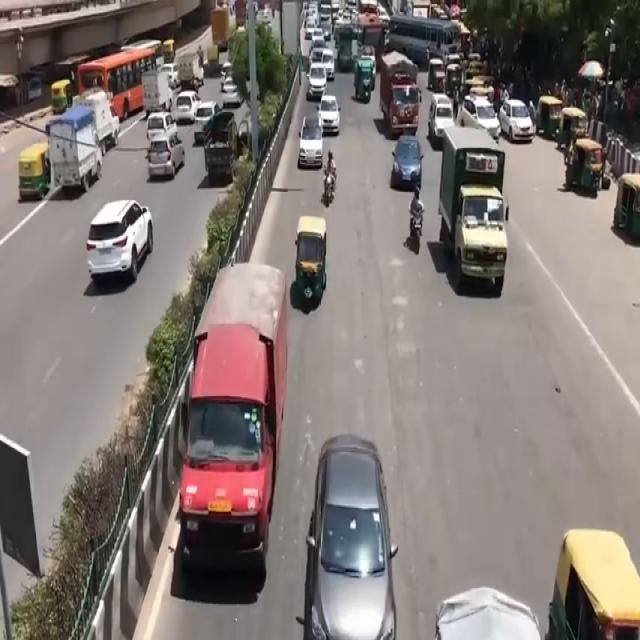BUS: (75, 44, 159, 121), (381, 55, 422, 137)
MOTORCYCLE: (410, 207, 424, 255), (324, 169, 336, 206)
TRUCK: (173, 265, 285, 596), (442, 128, 509, 298), (49, 109, 104, 199)
